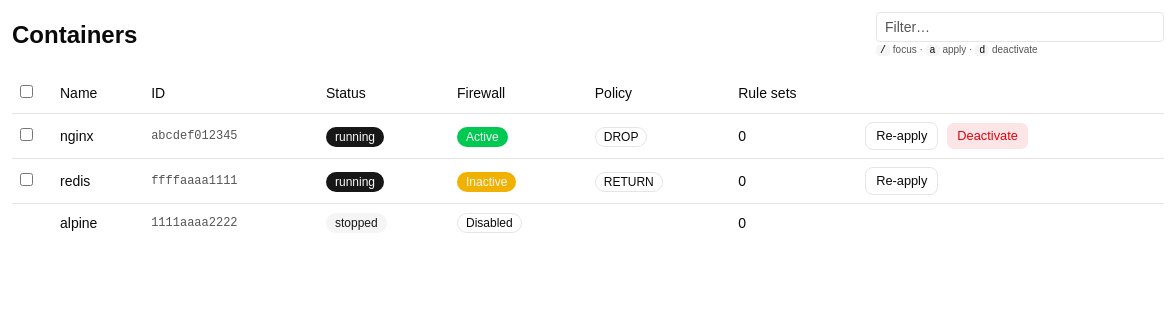
Test case: ContainersPage bulk selection › clears selection when the Clear button is pressed
Expected: the text "nginx" is shown, x1=52 y1=114 x2=143 y2=158
Click the checkbox named "Select nginx": coordinates (26, 134) x1=20 y1=128 x2=33 y2=141
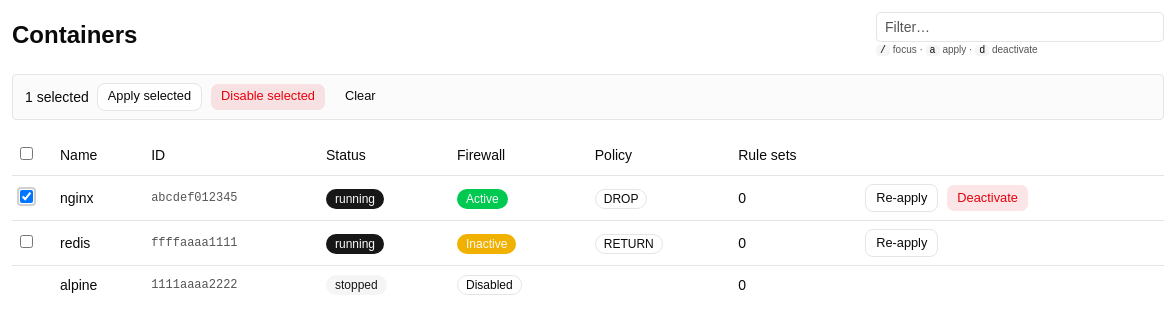
Result: the text "1 selected" is shown at x1=25 y1=86 x2=89 y2=106
Click the button with aria-label "Clear selection": coordinates (360, 96) x1=334 y1=82 x2=387 y2=110
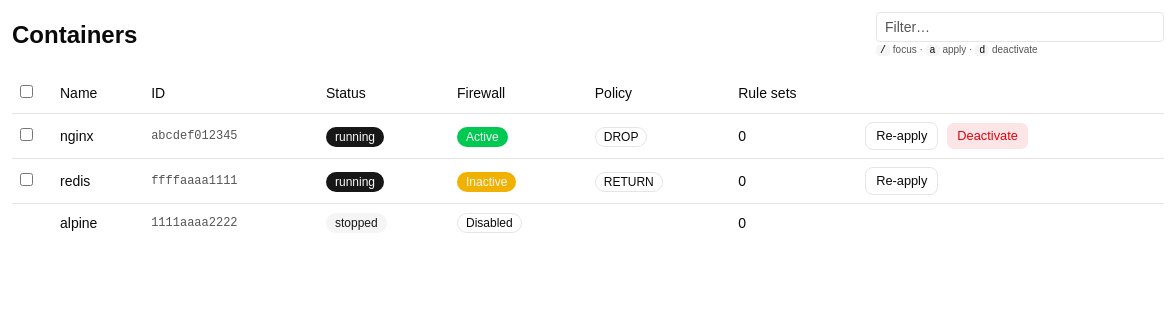
Result: the text "1 selected" is gone
